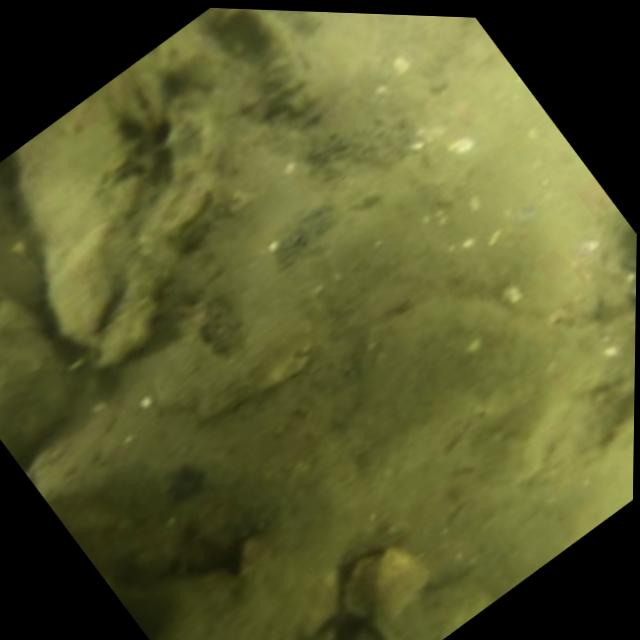Oyster-Indeterminate: (9, 42, 231, 370), (0, 292, 72, 462)
